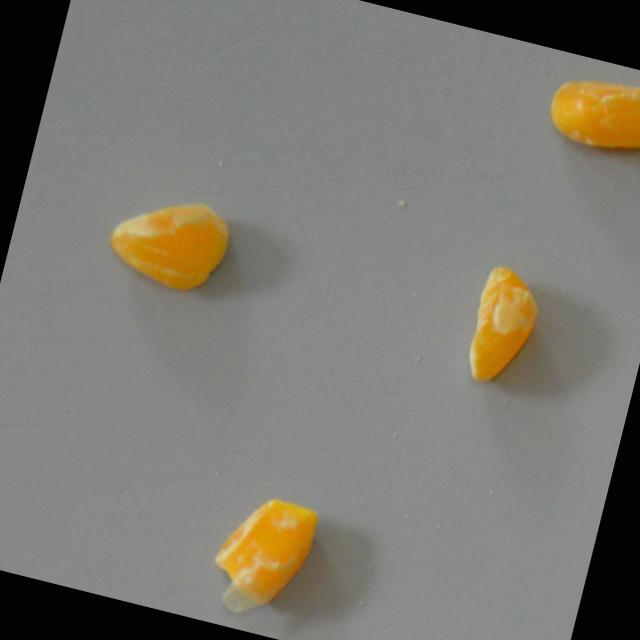pelicula: (200, 485, 322, 625), (103, 184, 238, 300), (456, 261, 548, 392), (544, 65, 640, 157)
